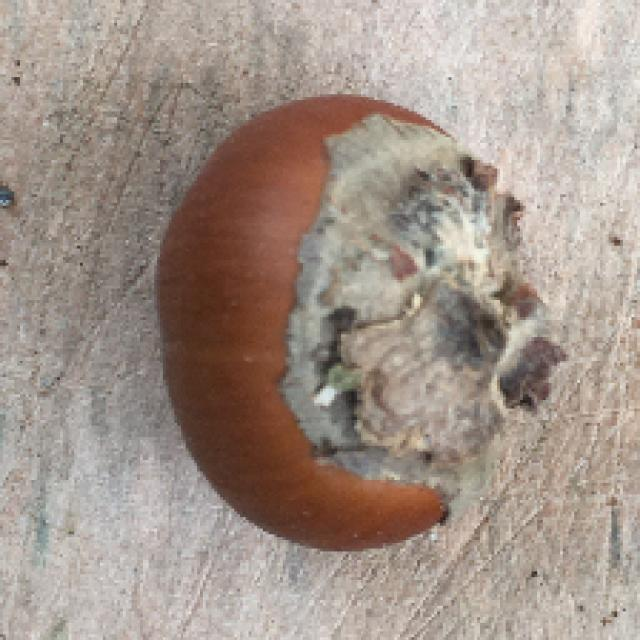damagedHazelnut: (148, 88, 554, 562)
